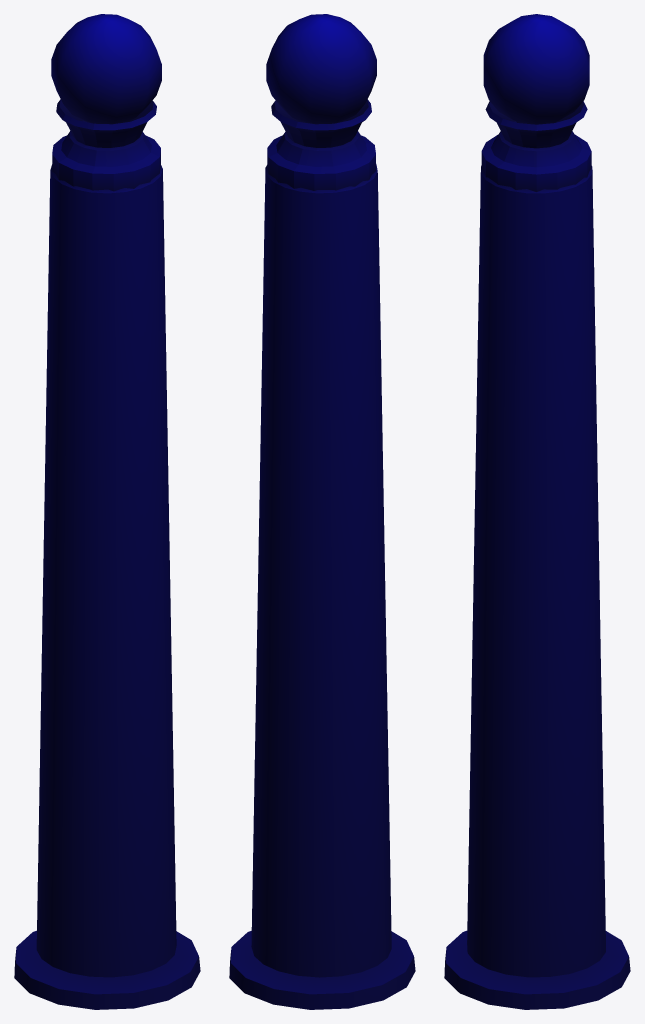
The model's file is ThinBollard.glb.
3 views of the same model, side by side, from view 1: azimuth 30°, elevation 25°; view 2: azimuth 150°, elevation 25°; view 3: azimuth 270°, elevation 25° (orthographic).
Visible parts, largest first — view 1: ThinBollard; view 2: ThinBollard; view 3: ThinBollard.
Boxes of the visible parts, x1=… form: ThinBollard: x1=14, y1=14, x2=200, y2=1009; ThinBollard: x1=229, y1=14, x2=415, y2=1009; ThinBollard: x1=444, y1=14, x2=630, y2=1009.
Bounding box in the file's own units: 0.7583 × 4.26 × 0.7553.
